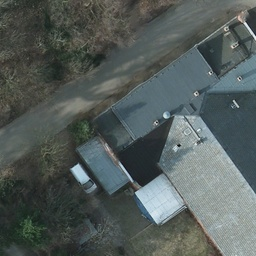car: (72, 165, 98, 194)
